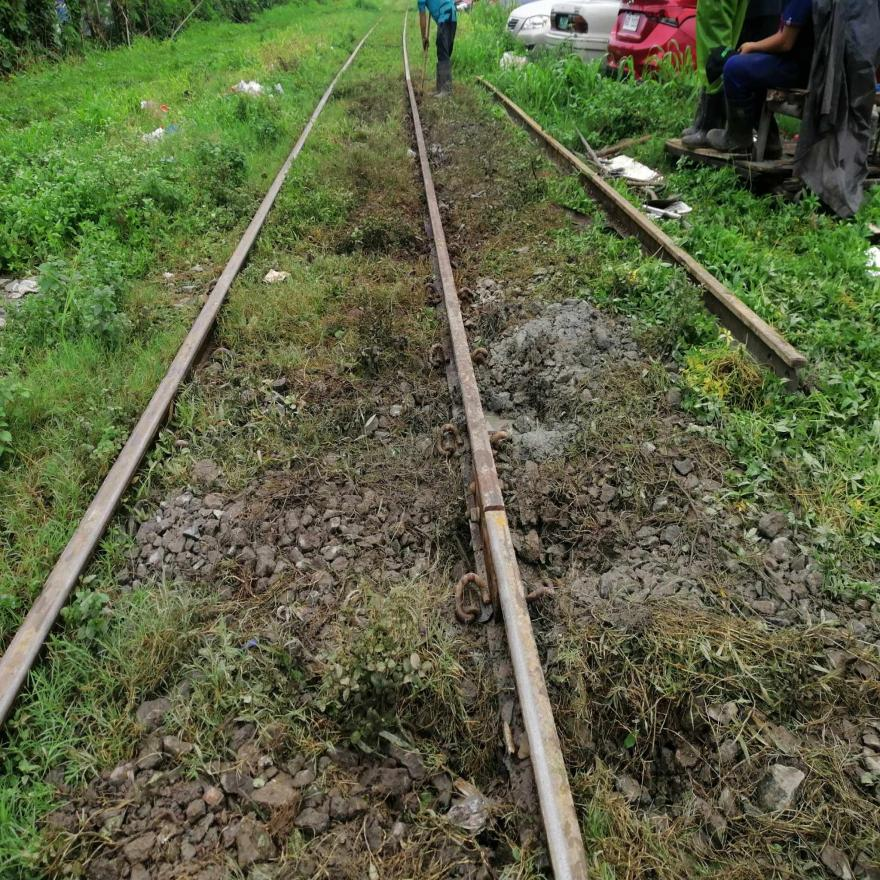railway-gap: (464, 468, 523, 552)
